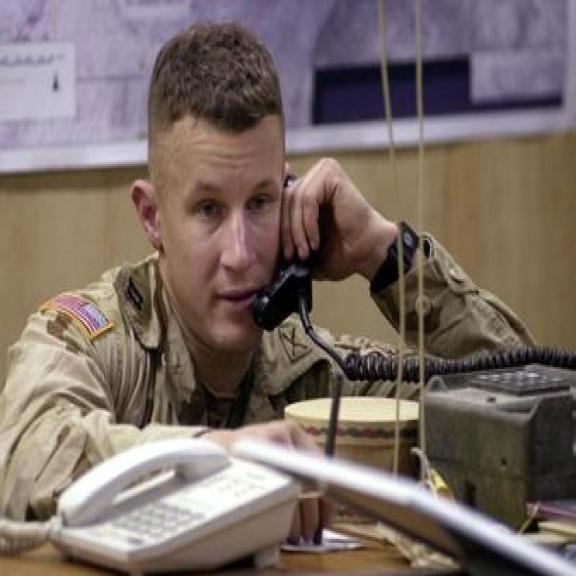face: (132, 85, 302, 355)
